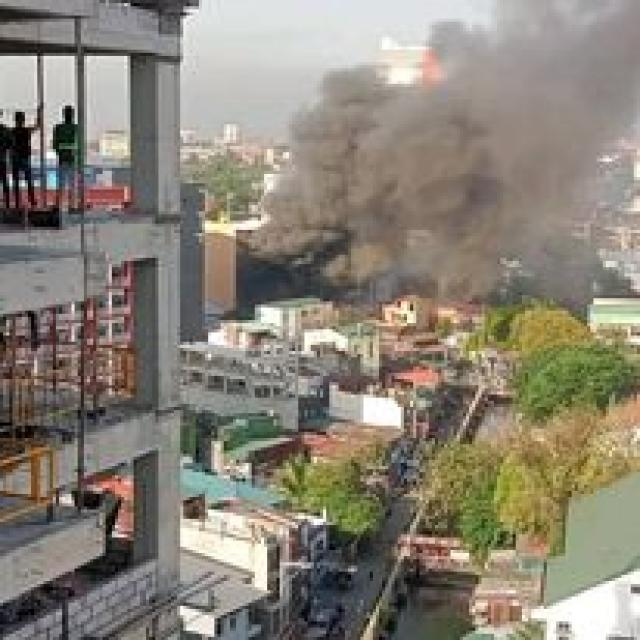Smoke: (248, 82, 528, 288), (435, 11, 635, 242)
